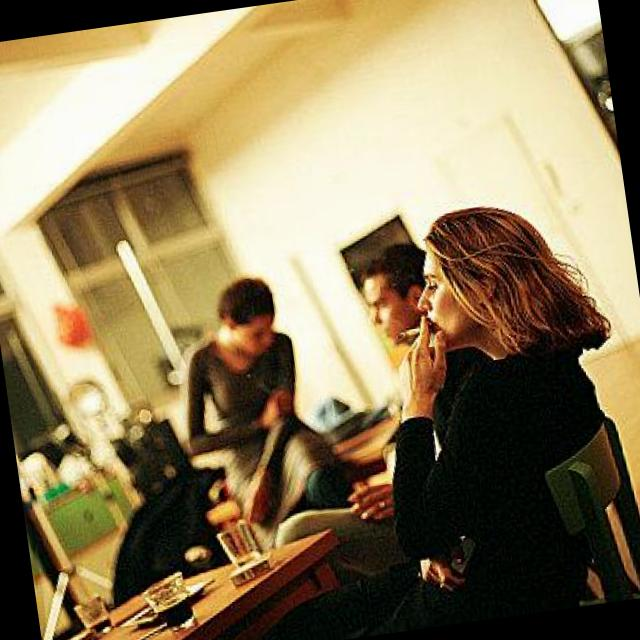smoke: (398, 324, 428, 342)
